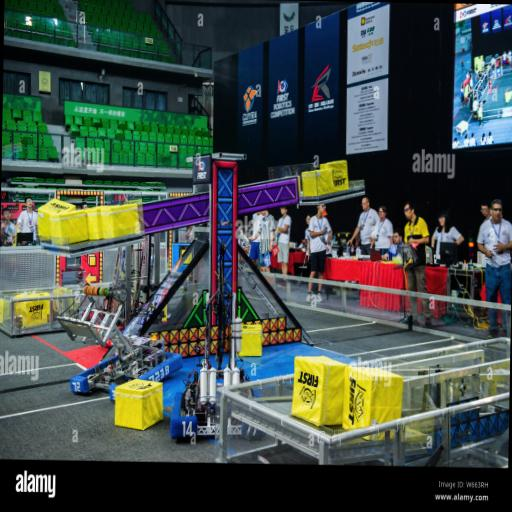robot: (167, 241, 267, 442), (56, 282, 184, 398)
